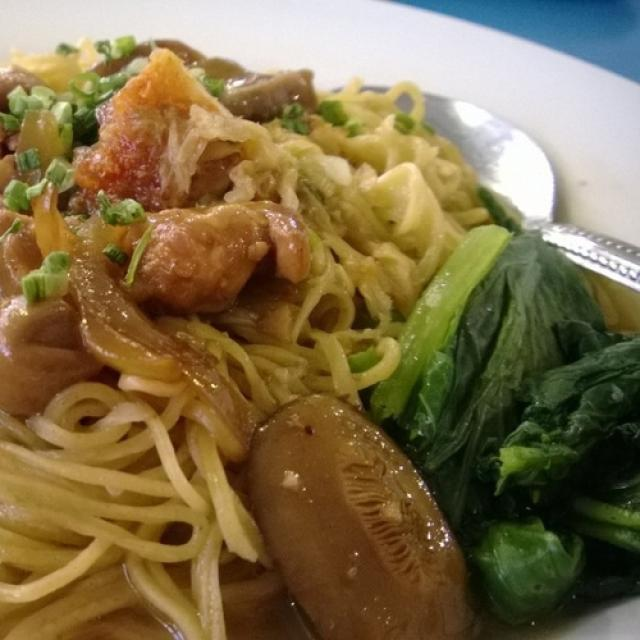面条主食: (13, 21, 595, 613)
